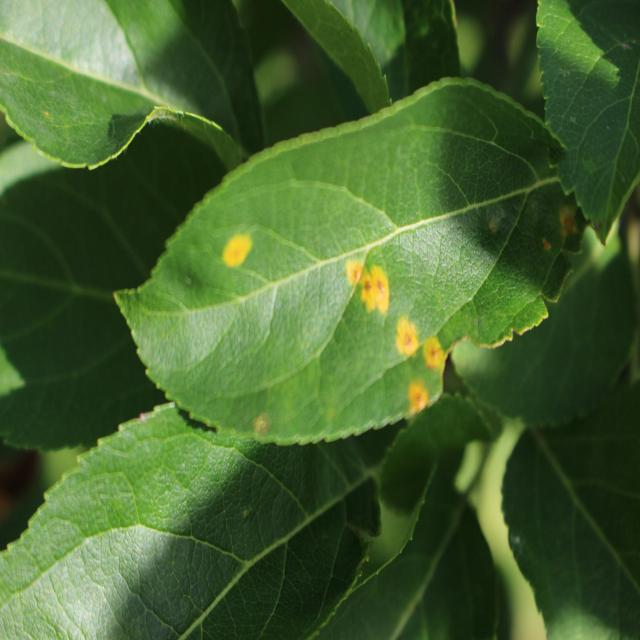Rust: (348, 246, 392, 326), (219, 217, 263, 279), (417, 318, 452, 383), (394, 376, 436, 426), (552, 191, 585, 238), (390, 312, 418, 363)
